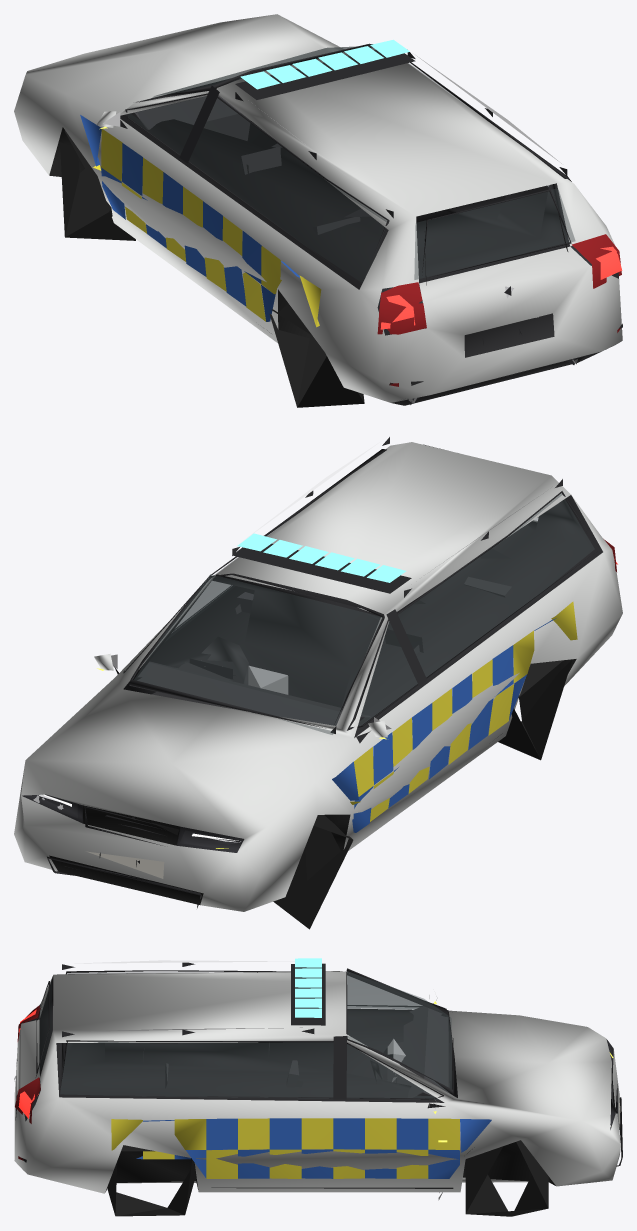
Rendered from civ_police_lod1.glb.
3 views of the same model, one above another, from view 1: azimuth 30°, elevation 25°; view 2: azimuth 150°, elevation 25°; view 3: azimuth 270°, elevation 25° (orthographic). The views are drawn at different scales.
Visible parts, largest first — view 1: civ_police.001; view 2: civ_police.001; view 3: civ_police.001.
Boxes of the visible parts, box(x1,y1,x2,y2) form: civ_police.001: box(14, 14, 622, 407); civ_police.001: box(14, 437, 622, 929); civ_police.001: box(14, 958, 622, 1216).
Bounding box in the file's own units: 2.05 × 1.65 × 4.61.
